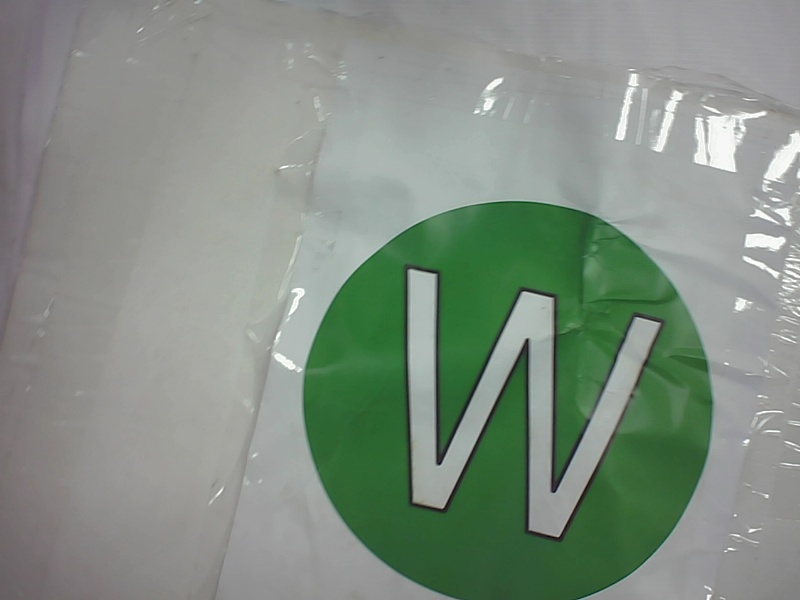areaB: (298, 198, 718, 594)
